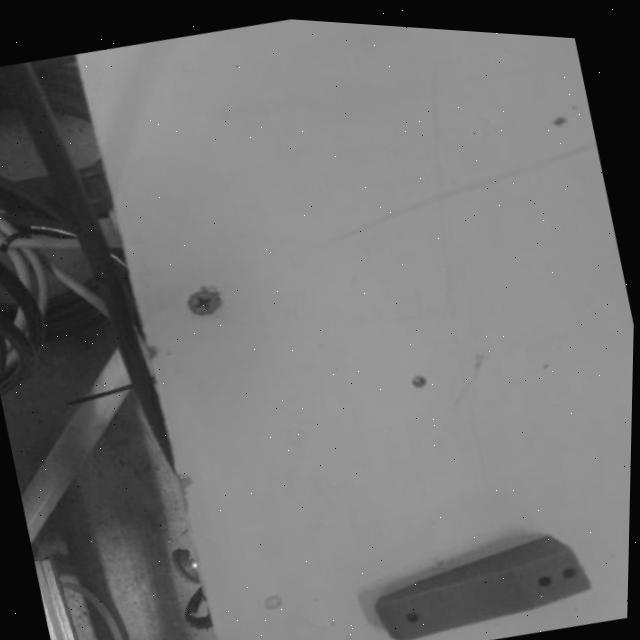grey: (361, 509, 604, 640)
head: (399, 602, 425, 627)
